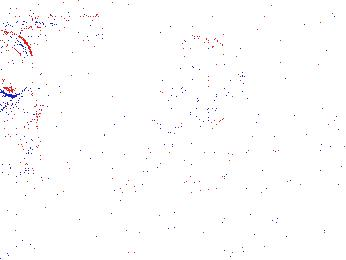moon jellyfish: (198, 97, 286, 158), (189, 37, 244, 126), (1, 91, 41, 183), (4, 56, 81, 95), (160, 48, 214, 92), (1, 29, 34, 97)
